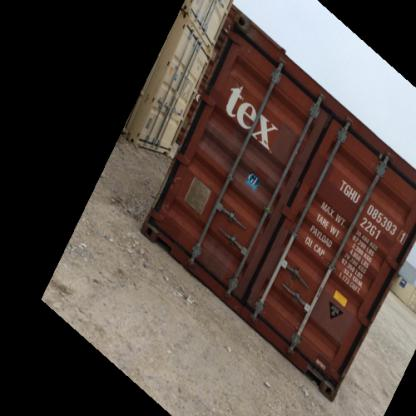Damage: (200, 230, 236, 284), (148, 200, 174, 223), (164, 168, 186, 194)
